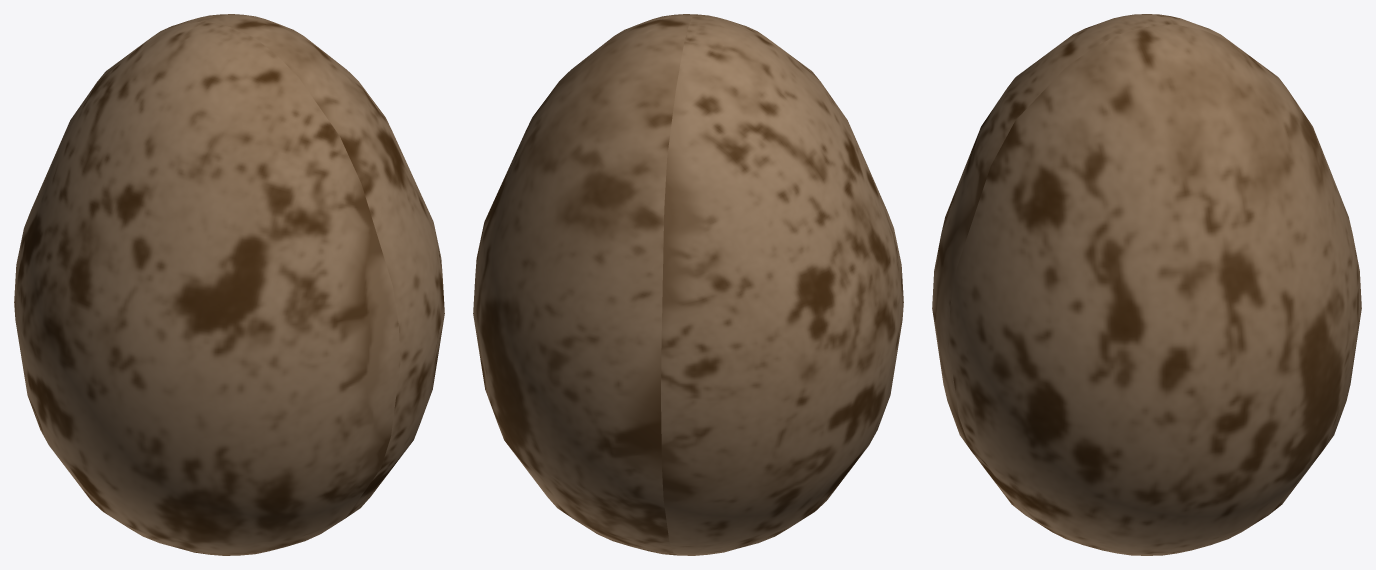
File: Huevo.fbx
3 views of the same model, side by side, from view 1: azimuth 30°, elevation 25°; view 2: azimuth 150°, elevation 25°; view 3: azimuth 270°, elevation 25° (orthographic).
Parts seen in each view (by area): view 1: Egg_OBJ:Sphere.001; view 2: Egg_OBJ:Sphere.001; view 3: Egg_OBJ:Sphere.001.
Part boxes in pixels (<box>): Egg_OBJ:Sphere.001: <box>14,14,444,555</box>; Egg_OBJ:Sphere.001: <box>473,14,903,555</box>; Egg_OBJ:Sphere.001: <box>932,14,1361,555</box>.
Size of the model in its own units: 8.86 by 11.51 by 8.8.
1 material, 1 textured.
